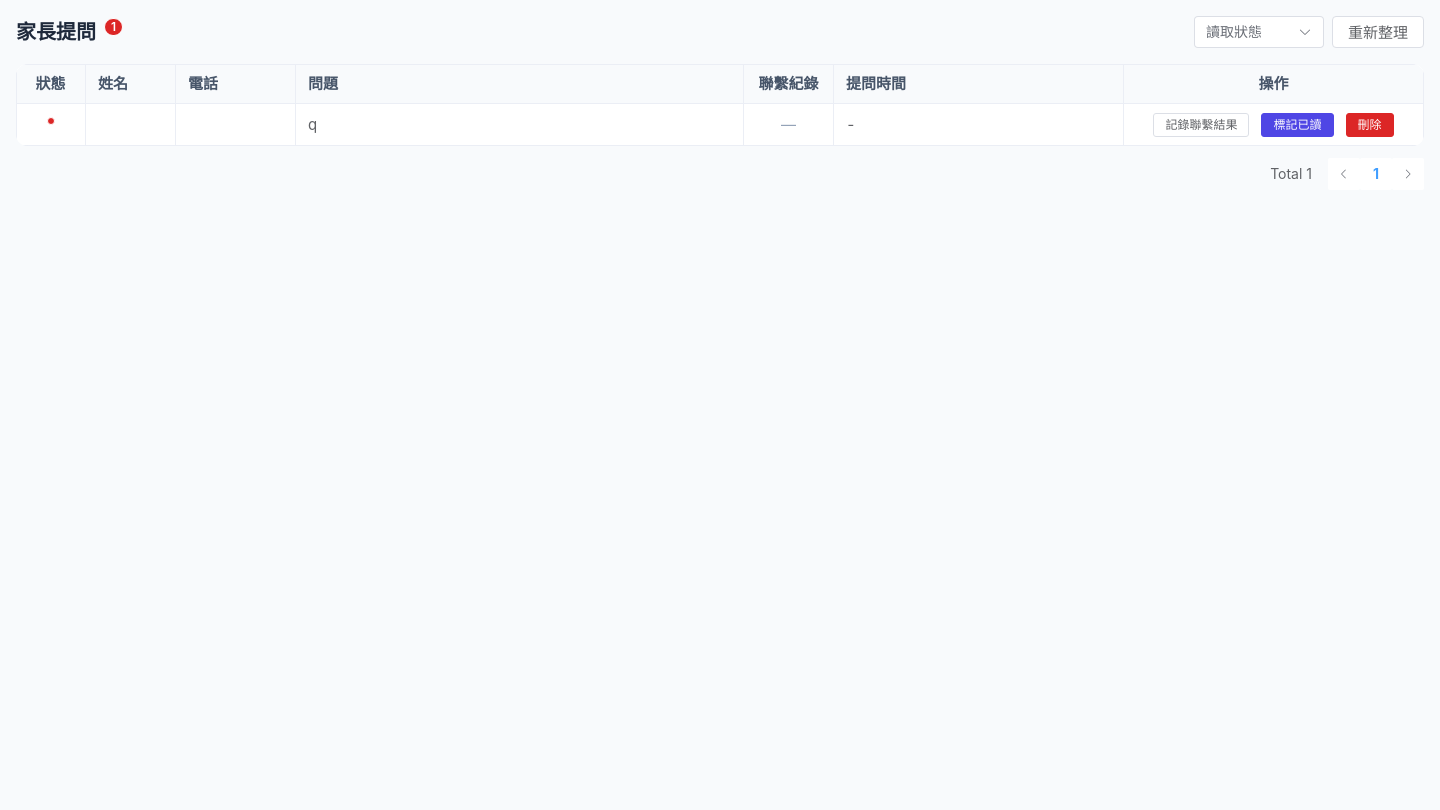
Test: 課後才藝 canWrite 閘（READ-only 隱藏 mutation 按鈕） › ActivityInquiryView › 有 ACTIVITY_WRITE：記錄聯繫結果/刪除可見
Click the button "記錄聯繫結果".
click(1202, 125)  # box [1154, 113, 1250, 137]
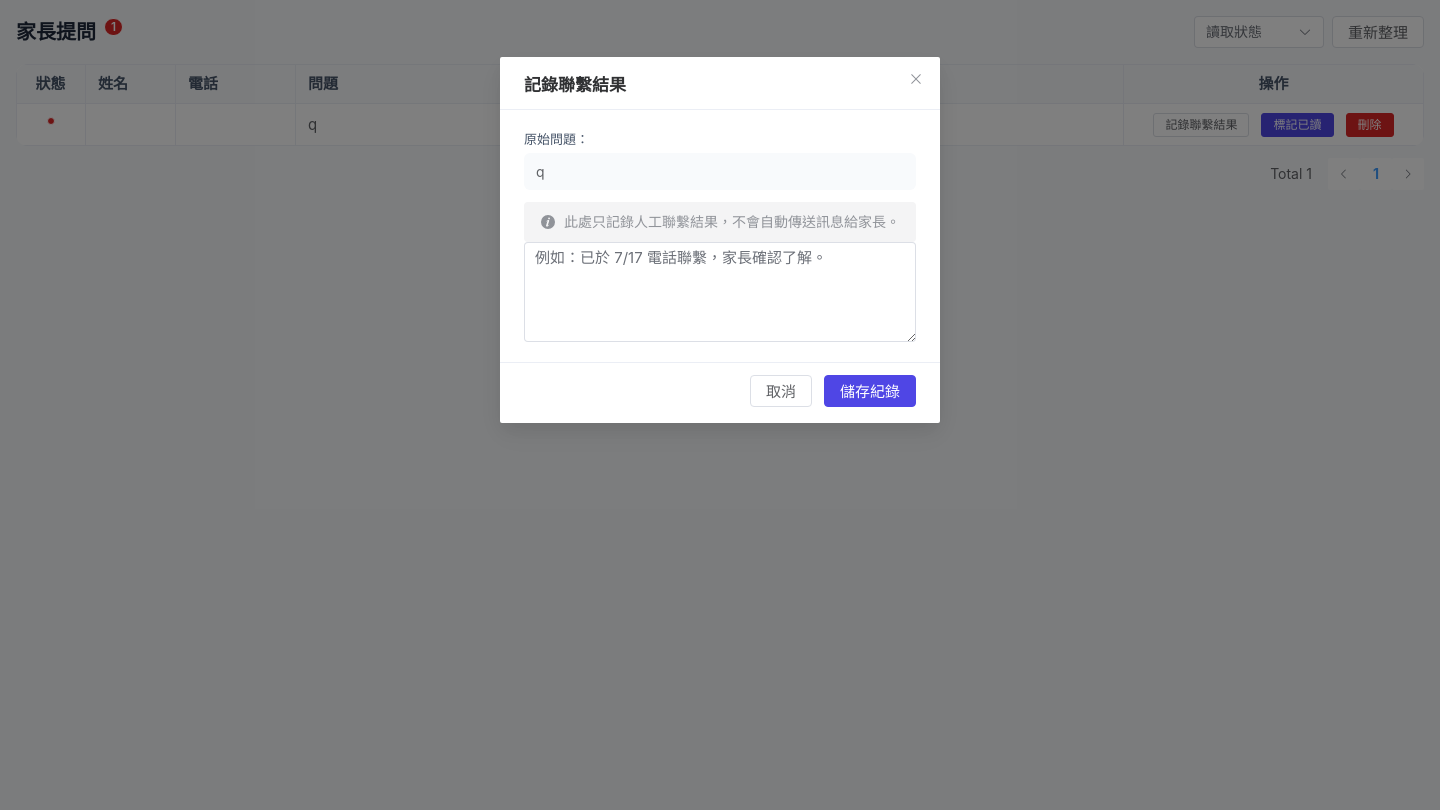
Check: the text "刪除" is shown, box [1358, 119, 1382, 131]
Check: the text "不會自動傳送訊息給家長" is shown, box [564, 213, 900, 230]
